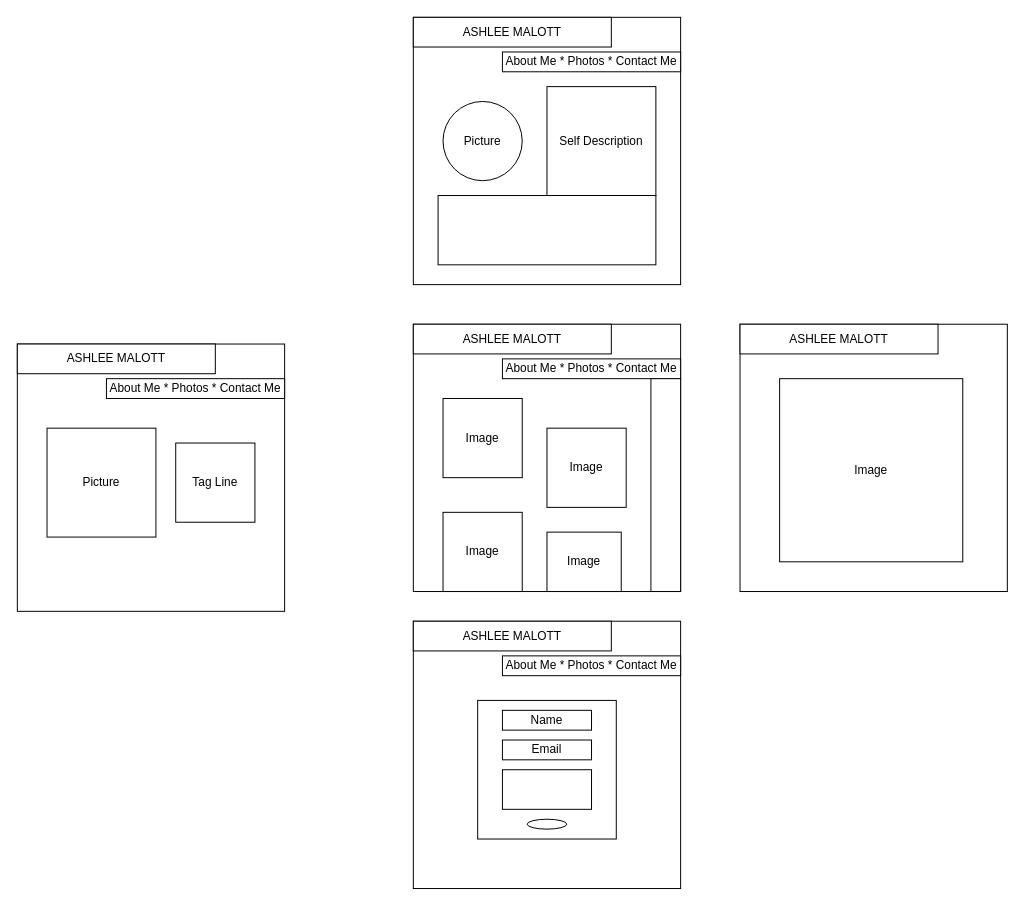
This 1025x906 diagram has some shape labels left out. The shapes that lost their labels are listed below. From the top down, each one's centre as x and y in pixels, then its label:
the point at 546,230: Skills Description
the point at 546,789: Description
